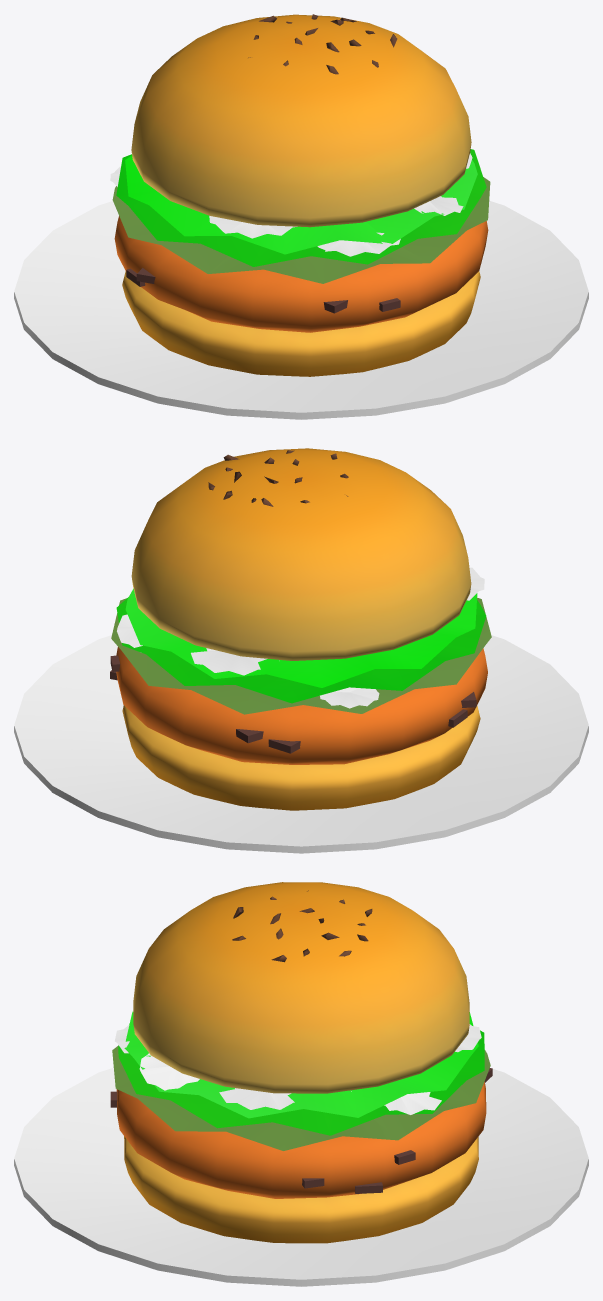
File: McCHICKEN.fbx
3 renders of one model, top to bottom at view 1: azimuth 30°, elevation 25°; view 2: azimuth 150°, elevation 25°; view 3: azimuth 270°, elevation 25°, orthographic.
Visible parts, largest first — view 1: McCHICKEN; view 2: McCHICKEN; view 3: McCHICKEN.
Boxes of the visible parts, x1,y1,x2,y2 form: McCHICKEN: [14, 14, 588, 419]; McCHICKEN: [14, 448, 588, 853]; McCHICKEN: [14, 882, 588, 1286].
Size of the model in its own units: 146 by 84.41 by 146.
